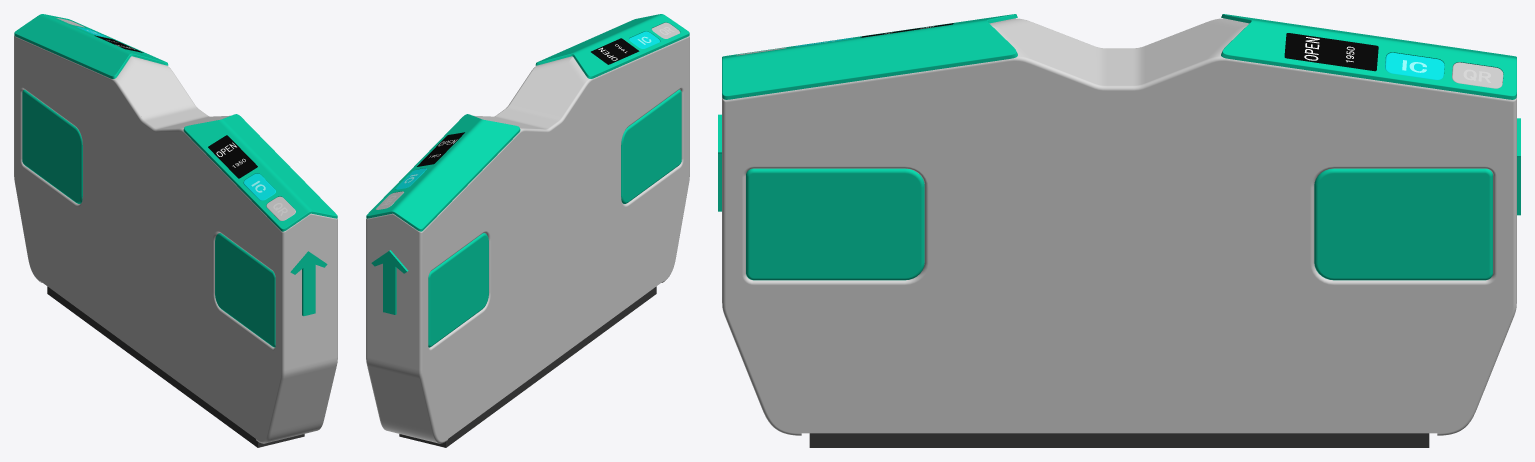
The picture shows the model from 3 angles, left to right: view 1: azimuth 30°, elevation 25°; view 2: azimuth 150°, elevation 25°; view 3: azimuth 270°, elevation 25°; orthographic projection. The views are drawn at different scales.
Visible parts, largest first — view 1: model5; view 2: model5; view 3: model5.
Boxes of the visible parts, bbox=[...] form: model5: bbox=[14, 14, 337, 447]; model5: bbox=[366, 14, 689, 447]; model5: bbox=[718, 14, 1520, 447].
Bounding box in the file's own units: 0.024 × 0.1139 × 0.202.
